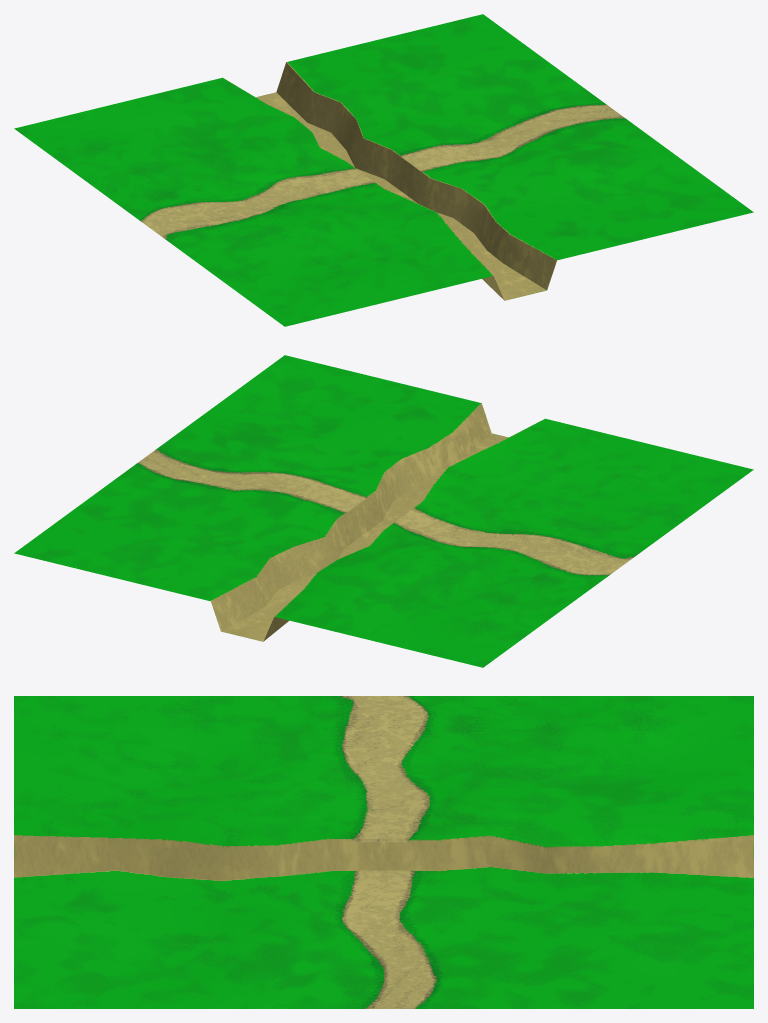
Rendered from Terrain003.FBX.
3 views of the same model, one above another, from view 1: azimuth 30°, elevation 25°; view 2: azimuth 150°, elevation 25°; view 3: azimuth 270°, elevation 25° (orthographic). The views are drawn at different scales.
Parts seen in each view (by area): view 1: Terrain001; view 2: Terrain001; view 3: Terrain001.
Boxes of the visible parts, bbox=[...] form: Terrain001: bbox=[14, 14, 753, 326]; Terrain001: bbox=[14, 355, 753, 667]; Terrain001: bbox=[14, 696, 753, 1008].
Bounding box in the file's own units: 690 × 48.33 × 690.
